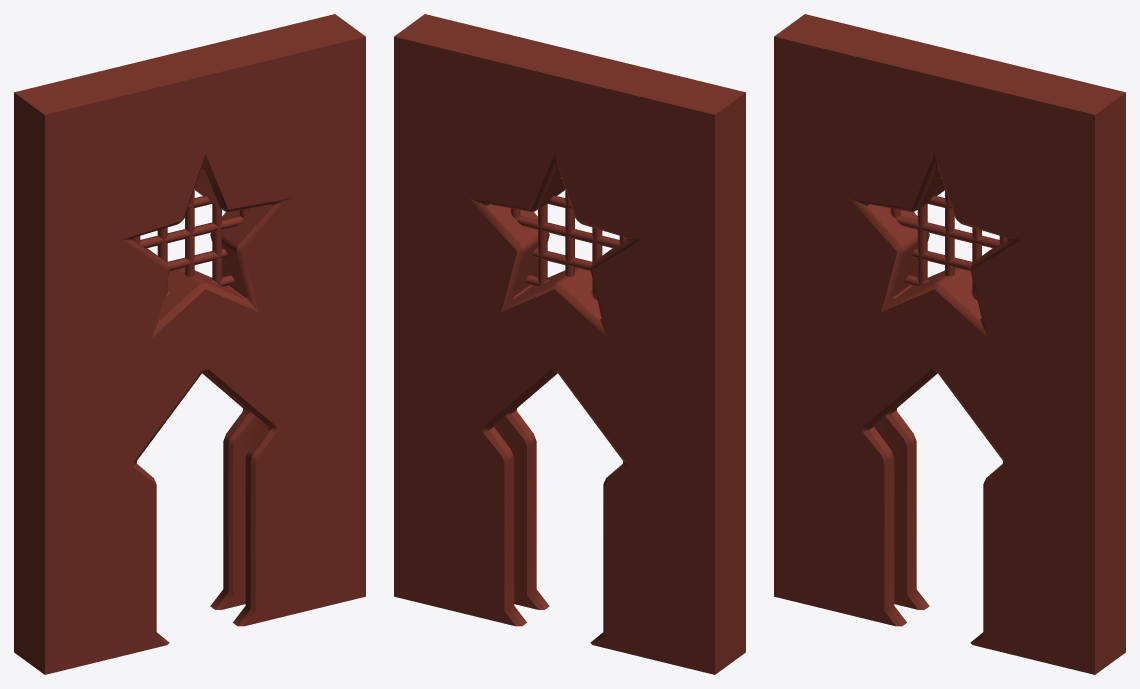
File: wall_002.fbx
3 renders of one model, left to right at view 1: azimuth 30°, elevation 25°; view 2: azimuth 150°, elevation 25°; view 3: azimuth 330°, elevation 25°, orthographic.
Visible parts, largest first — view 1: wall_002; view 2: wall_002; view 3: wall_002.
Part boxes in pixels (x1,y1,x2,y2): wall_002: (14,14,365,674); wall_002: (394,14,745,674); wall_002: (774,14,1125,674).
Size of the model in its own units: 600 by 100 by 1000.
